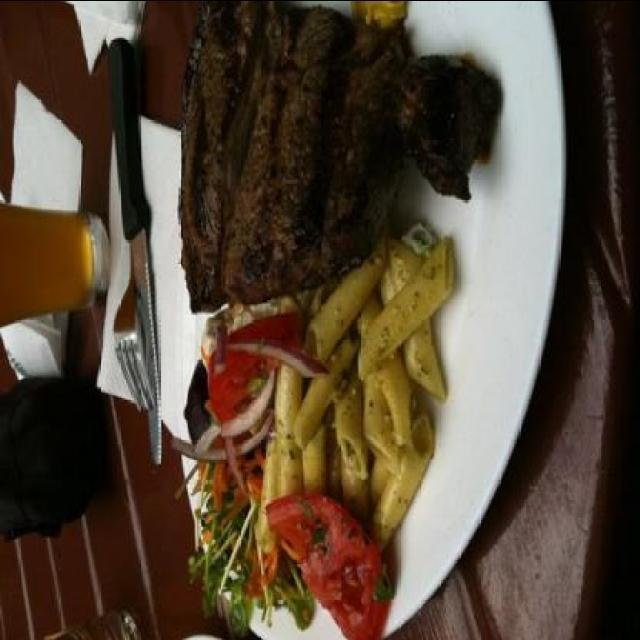Steak: (160, 2, 497, 313)
